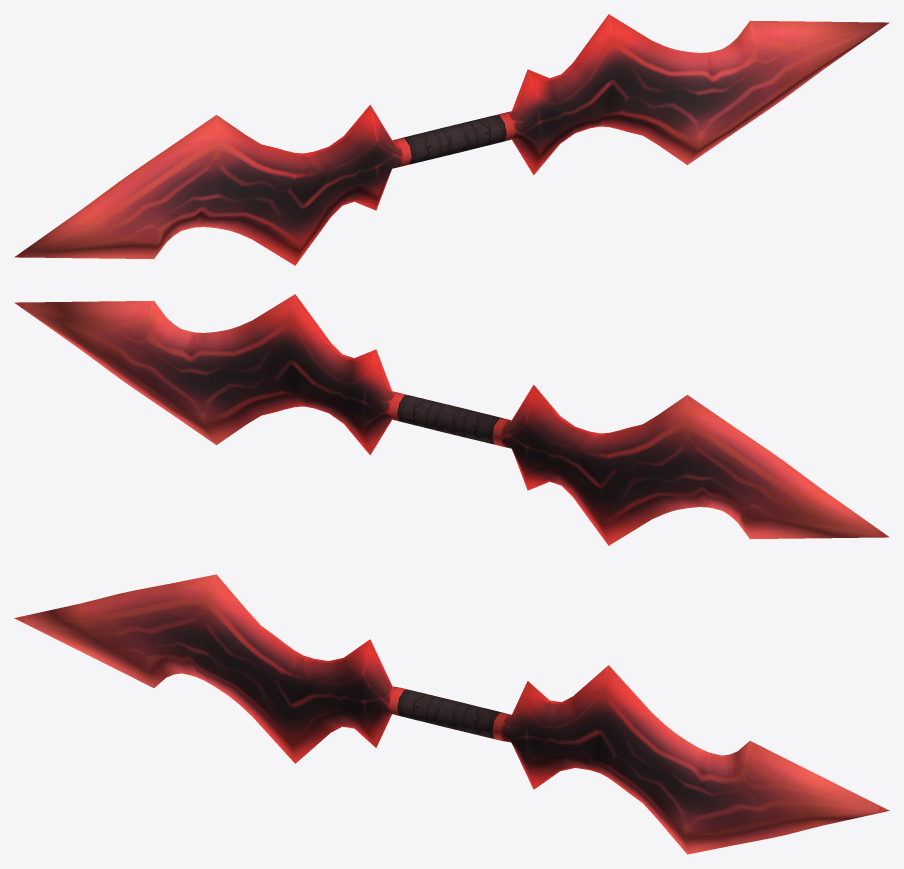
Rendered from item_weachemgm2501-et02.glb.
3 views of the same model, one above another, from view 1: azimuth 30°, elevation 25°; view 2: azimuth 150°, elevation 25°; view 3: azimuth 330°, elevation 25° (orthographic).
Visible parts, largest first — view 1: FlyffMesh; view 2: FlyffMesh; view 3: FlyffMesh.
Boxes of the visible parts, x1,y1,x2,y2 form: FlyffMesh: (14,14,889,265); FlyffMesh: (14,294,889,545); FlyffMesh: (14,574,889,854).
Bounding box in the file's own units: 2.09 × 0.3999 × 0.0605.
Materials: 1 (1 with a texture image).
